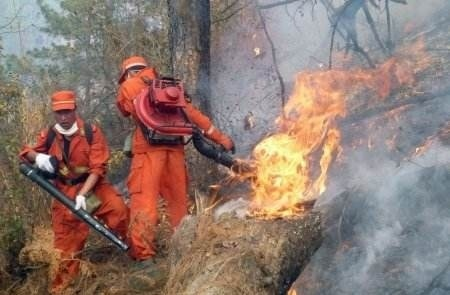fire: (229, 35, 437, 226)
